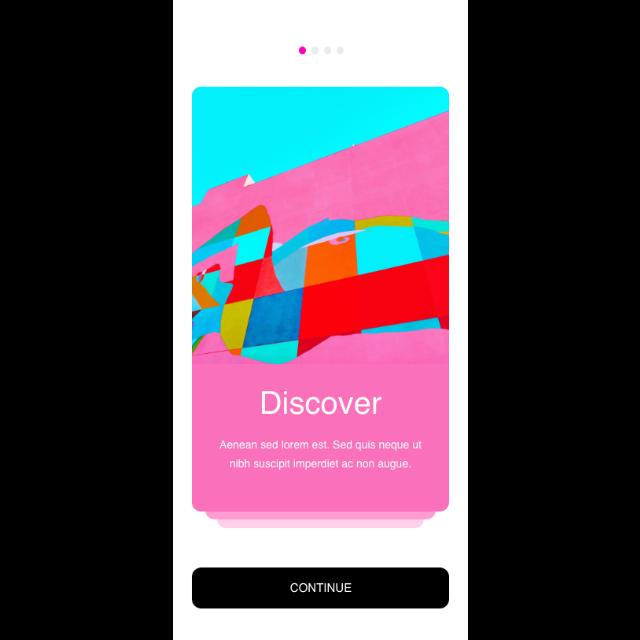image: (192, 87, 448, 366)
pageindicator: (298, 46, 344, 56)
text: (218, 442, 422, 471), (261, 391, 381, 415)
textbutton: (192, 568, 448, 608)
